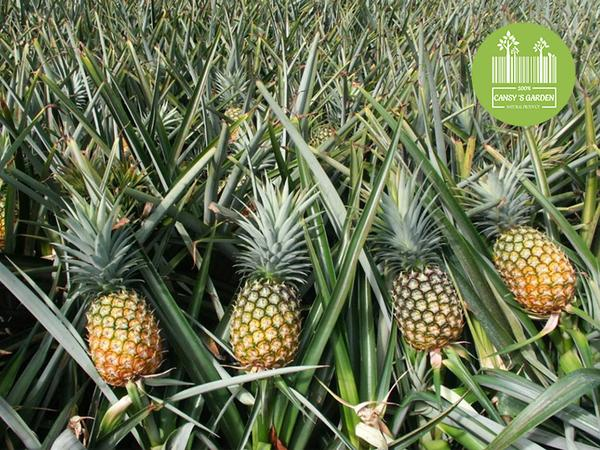pineapple: (57, 194, 185, 394), (354, 163, 477, 351), (215, 174, 323, 380), (464, 165, 577, 316)
